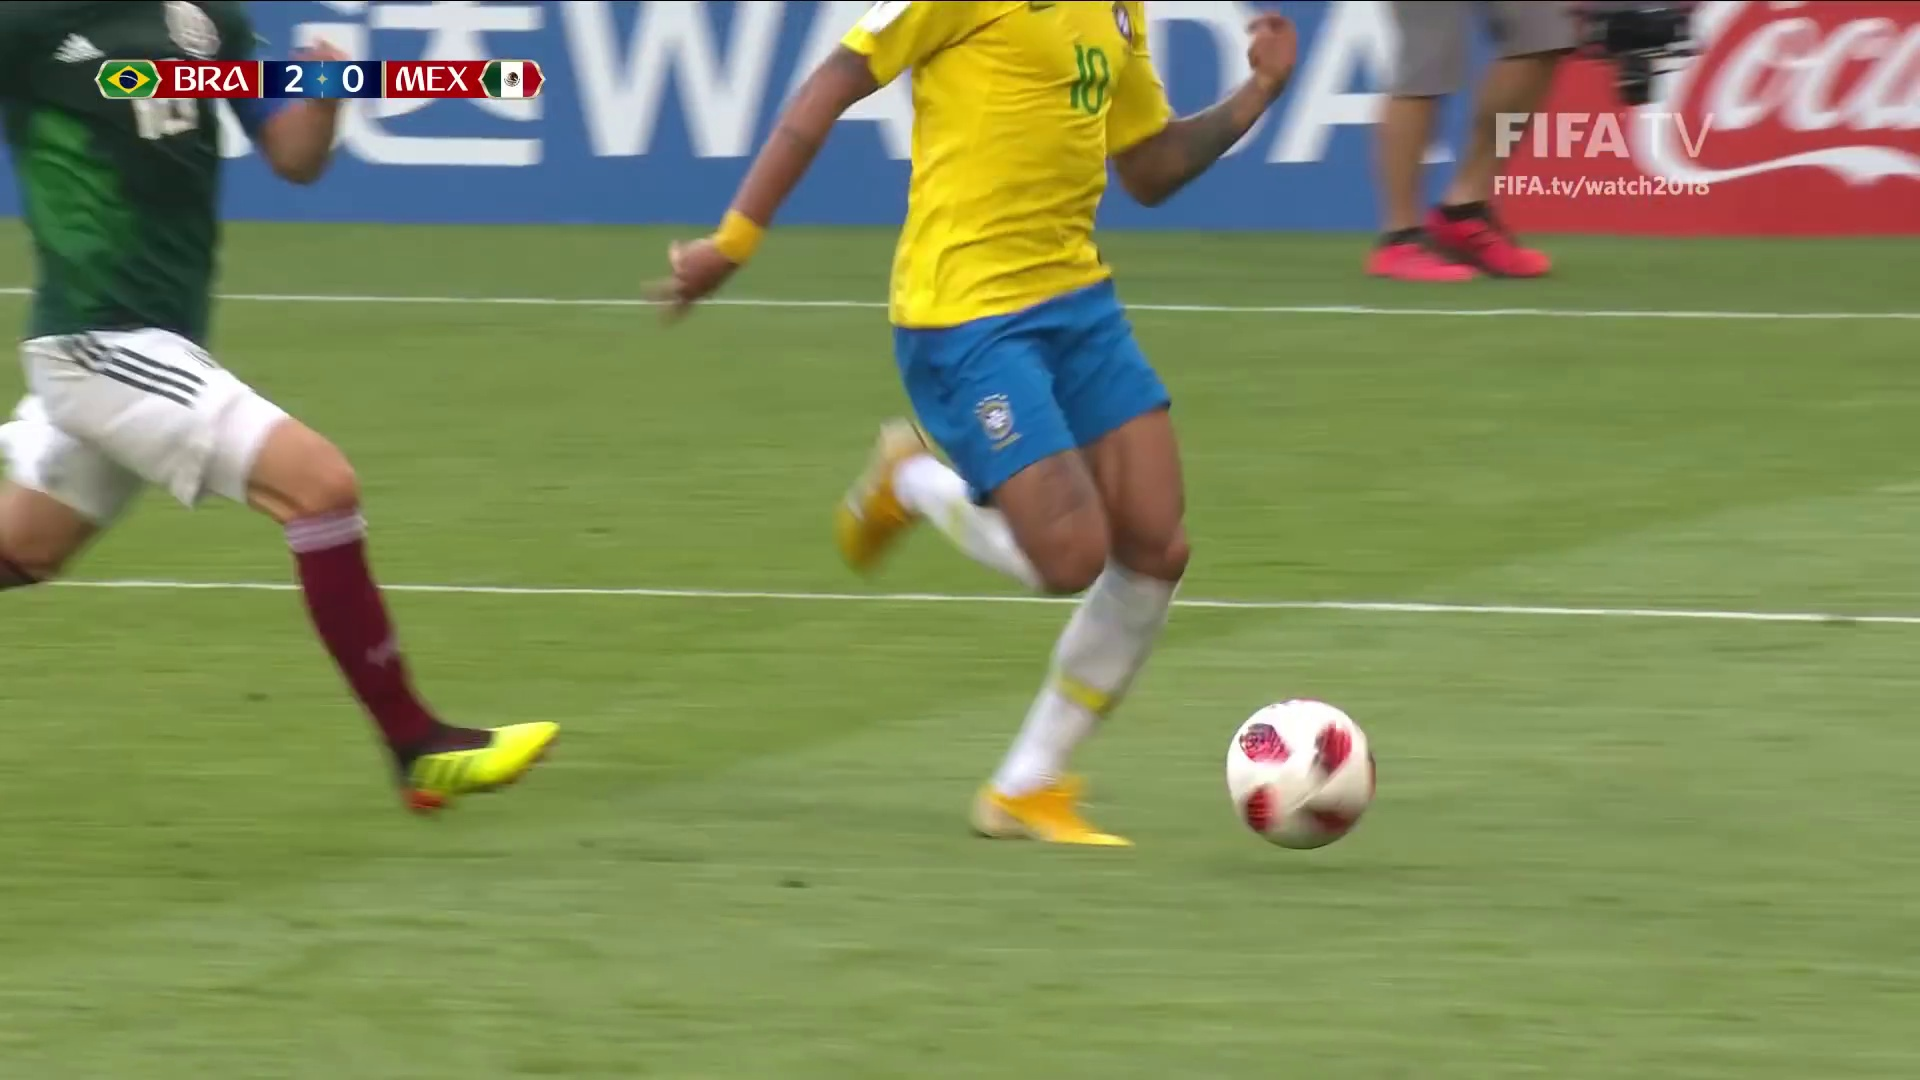ball: (1236, 705, 1372, 848)
person: (648, 1, 1272, 862), (4, 2, 543, 819)
